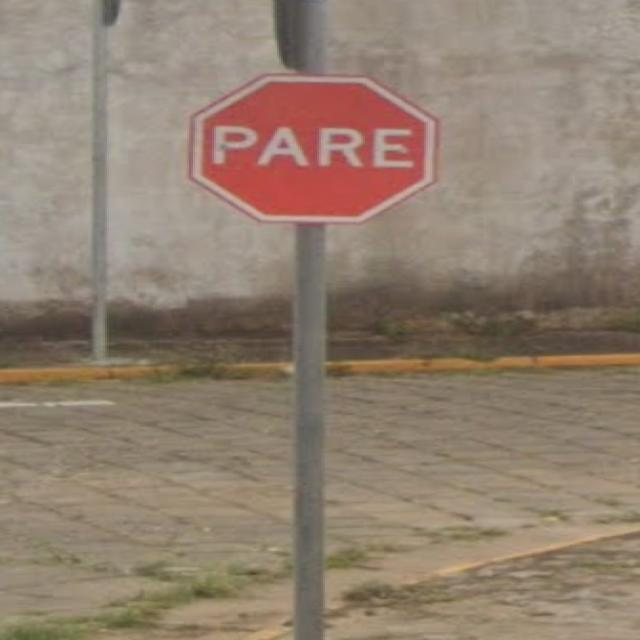stop: (140, 42, 454, 252)
